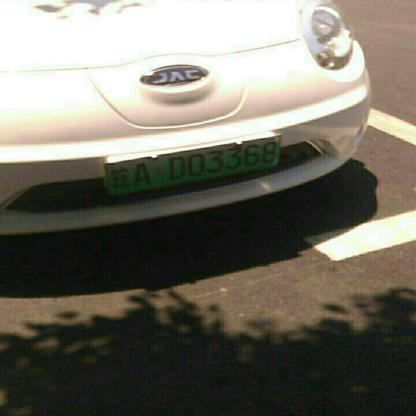lp: (116, 138, 285, 195)
